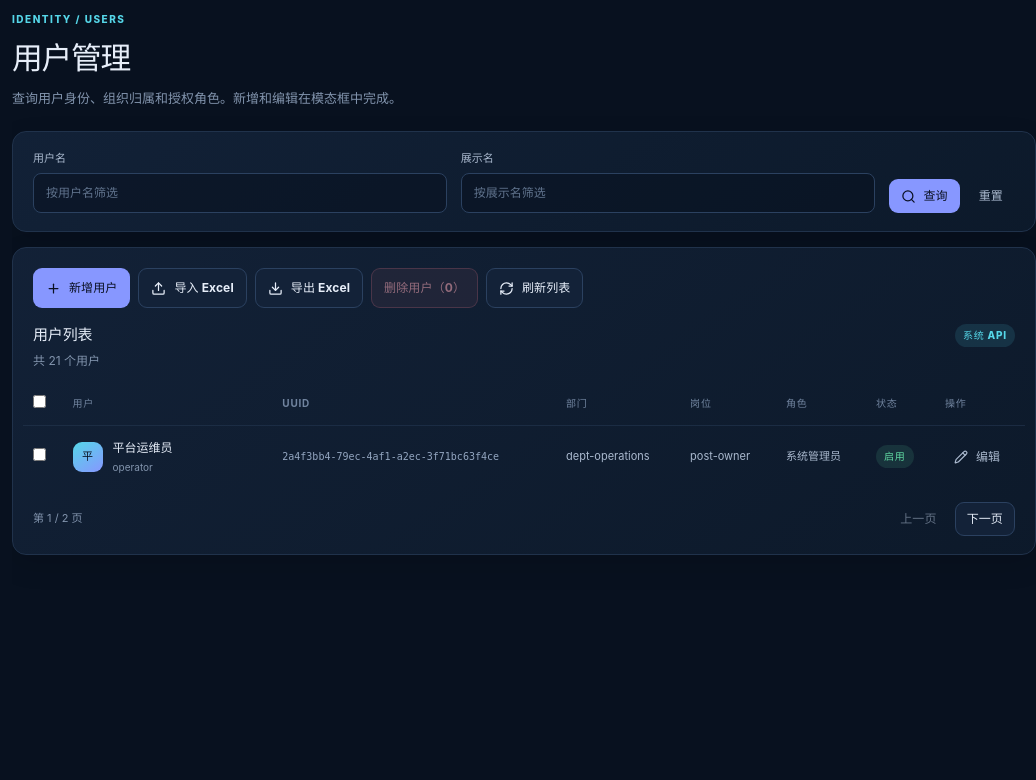
UsersPage › 刷新已有用户数据失败时保留列表并提供重试入口
The image size is (1036, 780).
Expected: the text "平台运维员" is shown, [112,439,172,457]
Click the button "刷新列表": point(535, 288) [486,268,584,308]
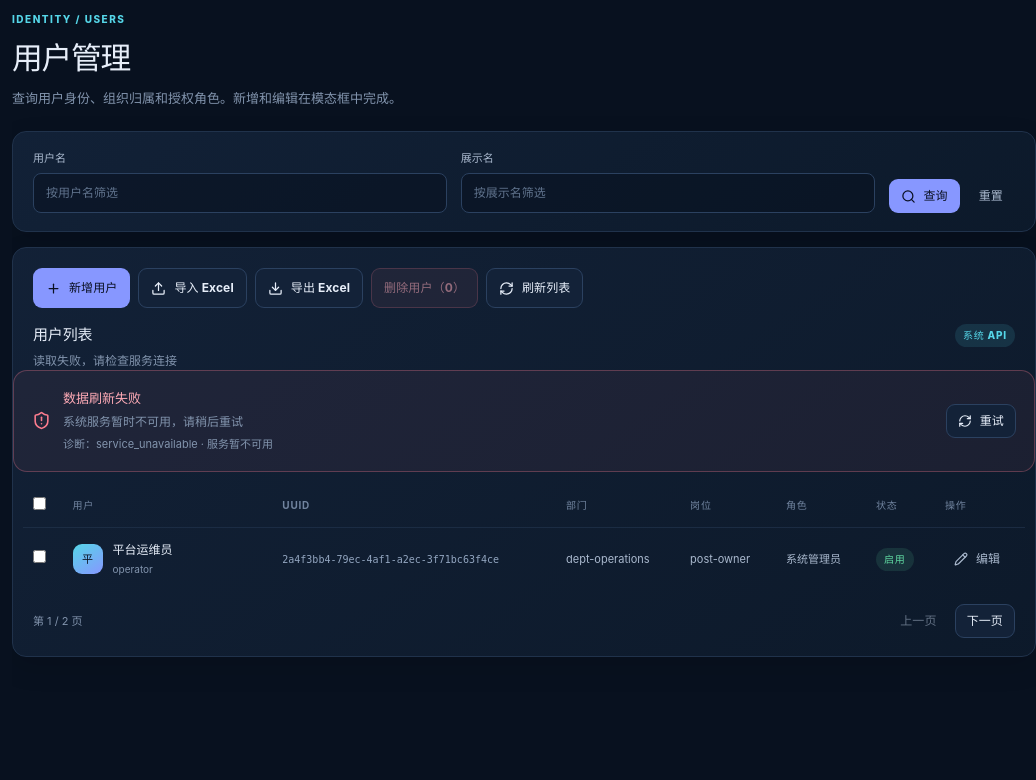
Expected: the text "平台运维员" is shown, [112,541,172,559]
Expected: the text "数据刷新失败" is shown, [63,390,141,406]
Expected: the text "系统服务暂时不可用，请稍后重试" is shown, [63,414,243,429]
